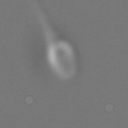normal: (26, 1, 63, 39)
